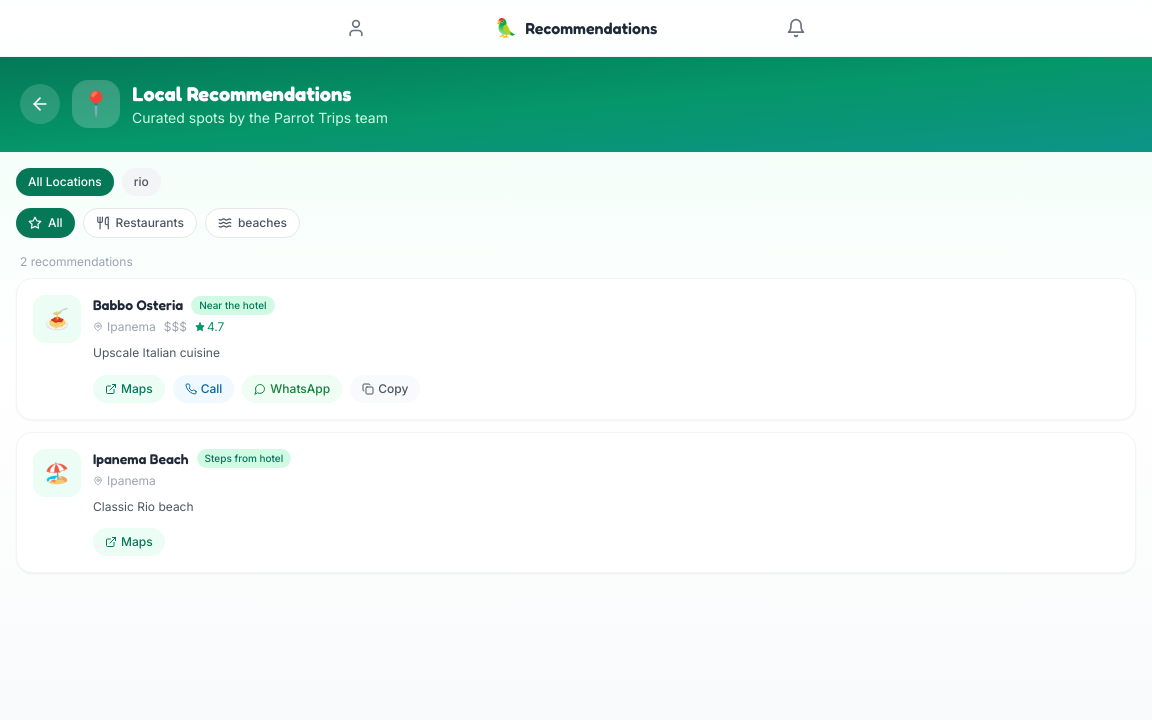
Test case: RecommendationsScreen › renders rich recommendations from the backend and filters by category
The width and height of the screenshot is (1152, 720).
Expected: the heading "Babbo Osteria" is shown, [93, 295, 183, 315]
Expected: the heading "Ipanema Beach" is shown, [93, 448, 189, 468]
Click the button "beaches" at [252, 223], box [205, 208, 300, 238]
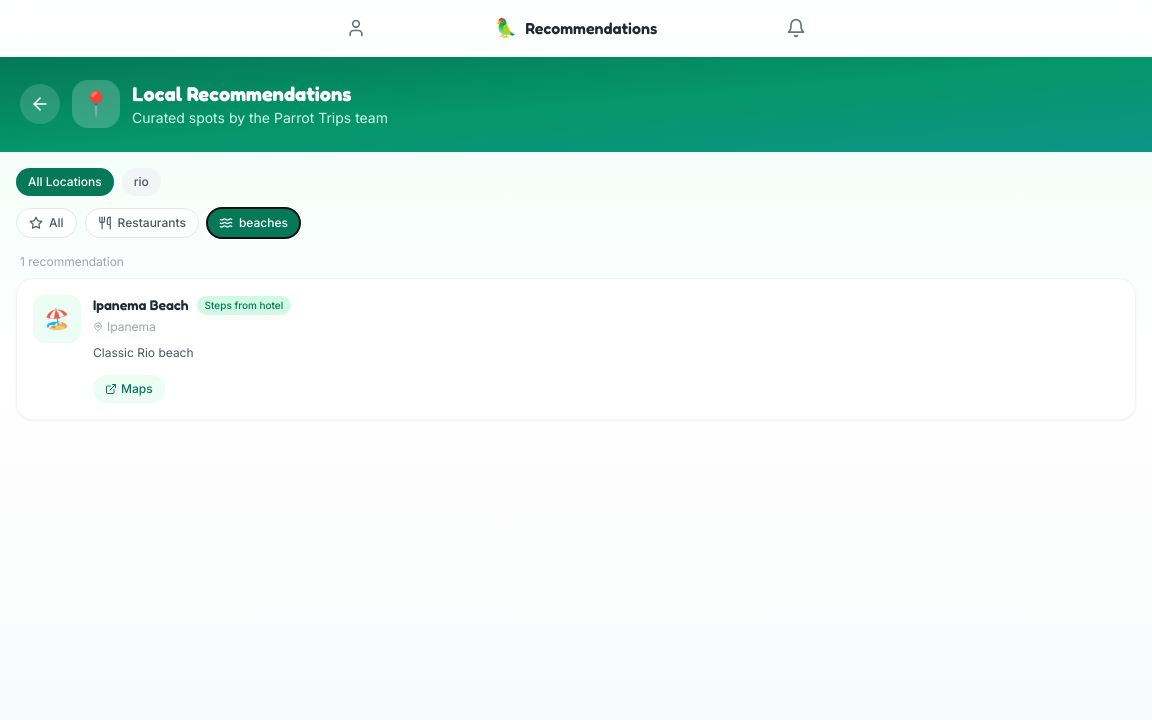
Expected: the heading "Ipanema Beach" is shown, [93, 295, 189, 315]
Now the heading "Babbo Osteria" is gone
